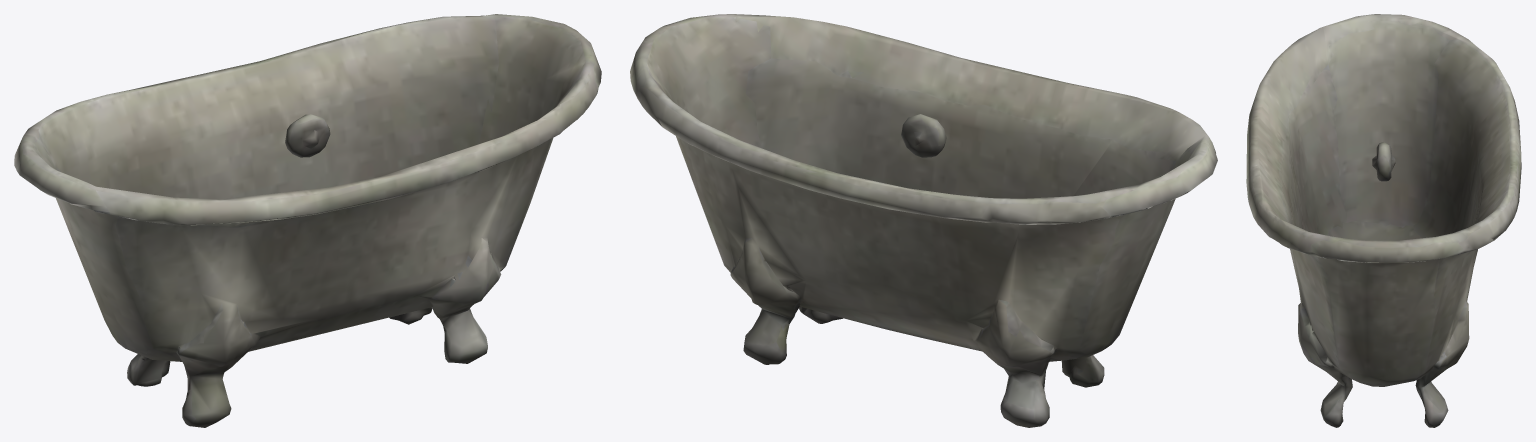
The model's file is worn-white-painted-bathtub-v002.glb.
3 views of the same model, side by side, from view 1: azimuth 30°, elevation 25°; view 2: azimuth 150°, elevation 25°; view 3: azimuth 270°, elevation 25° (orthographic). The views are drawn at different scales.
Visible parts, largest first — view 1: worn-white-painted-bathtub; view 2: worn-white-painted-bathtub; view 3: worn-white-painted-bathtub.
Part boxes in pixels (left/top/right/bottom): worn-white-painted-bathtub: left=14, top=14, right=601, bottom=427; worn-white-painted-bathtub: left=630, top=14, right=1217, bottom=427; worn-white-painted-bathtub: left=1246, top=14, right=1521, bottom=427.
Bounding box in the file's own units: 1.34 × 0.6384 × 0.658.
Materials: 1 (1 with a texture image).
